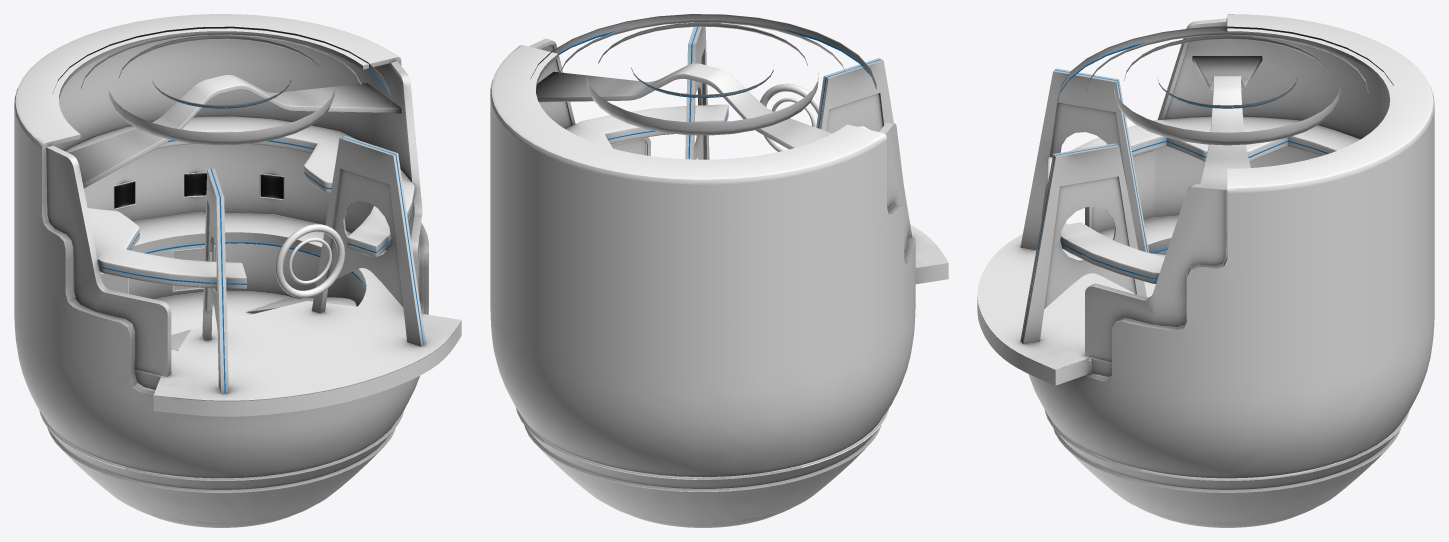
3 renders of one model, left to right at view 1: azimuth 30°, elevation 25°; view 2: azimuth 150°, elevation 25°; view 3: azimuth 270°, elevation 25°, orthographic. The views are drawn at different scales.
Visible parts, largest first — view 1: ke, qiang, sl_way, Object008, sl_ceiling, bloom, beijing, xiangkuang; view 2: ke, sl_ceiling, Object008, qiang, bloom, sl_way; view 3: ke, Object008, qiang, sl_ceiling, sl_way.
Boxes of the visible parts, left/top/right/bottom form: ke: left=14, top=14, right=428, bottom=527; qiang: left=53, top=36, right=461, bottom=416; sl_way: left=132, top=212, right=461, bottom=400; Object008: left=65, top=116, right=425, bottom=394; sl_ceiling: left=53, top=26, right=401, bottom=188; bloom: left=275, top=224, right=344, bottom=298; beijing: left=100, top=248, right=214, bottom=293; xiangkuang: left=100, top=172, right=284, bottom=293; ke: left=490, top=38, right=915, bottom=527; sl_ceiling: left=530, top=14, right=876, bottom=149; Object008: left=566, top=26, right=912, bottom=237; qiang: left=538, top=44, right=948, bottom=284; bloom: left=760, top=83, right=822, bottom=151; sl_way: left=910, top=224, right=948, bottom=267; ke: left=1028, top=14, right=1434, bottom=527; Object008: left=1020, top=68, right=1360, bottom=344; qiang: left=977, top=25, right=1389, bottom=385; sl_ceiling: left=1057, top=26, right=1393, bottom=186; sl_way: left=977, top=215, right=1178, bottom=369.
Bounding box in the file's own units: 33.06 × 36.62 × 36.46.
10 materials, 10 textured.
